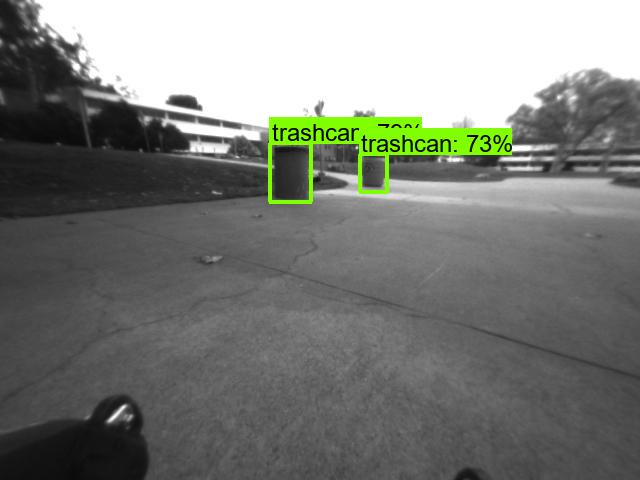trashcan: (275, 144, 315, 202), (364, 156, 389, 191)
